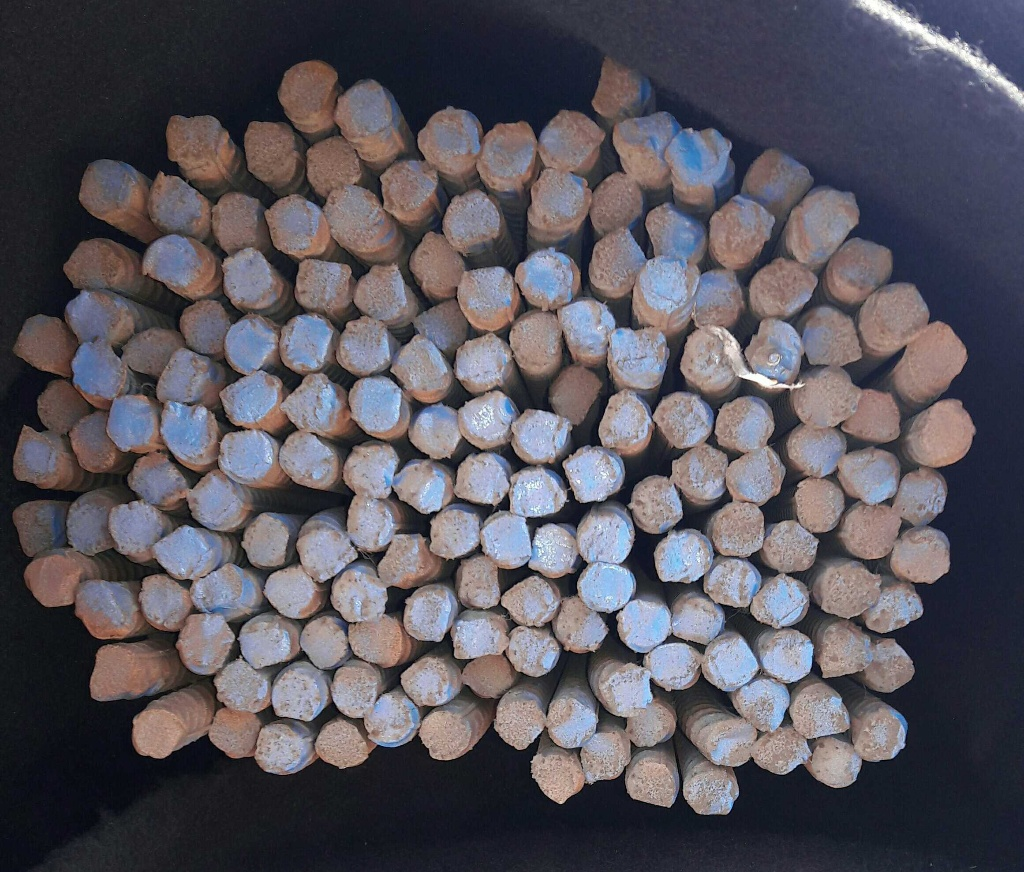dipstick: (709, 195, 774, 265), (792, 187, 859, 254), (910, 399, 979, 464), (475, 121, 538, 190), (793, 366, 860, 427), (615, 110, 683, 170), (681, 323, 739, 392), (752, 258, 818, 318), (185, 469, 249, 530), (540, 110, 604, 170), (161, 400, 221, 463), (458, 269, 519, 330), (266, 196, 329, 255), (745, 318, 802, 383), (748, 149, 813, 206), (222, 248, 281, 309), (868, 283, 929, 342), (839, 448, 901, 506), (516, 249, 580, 305), (804, 306, 863, 366), (191, 564, 254, 620), (908, 321, 967, 380), (176, 615, 234, 675), (282, 374, 343, 431), (667, 128, 730, 183), (75, 580, 133, 639), (558, 299, 616, 358), (306, 136, 362, 197), (419, 108, 482, 162), (443, 190, 500, 249), (279, 61, 339, 117), (640, 255, 700, 311), (891, 526, 951, 582), (786, 422, 846, 478), (597, 391, 652, 452), (239, 615, 301, 669), (611, 326, 667, 385), (648, 203, 708, 258), (530, 170, 591, 224), (458, 391, 515, 448), (336, 80, 393, 137), (79, 158, 134, 217), (148, 172, 202, 232), (750, 573, 810, 627), (725, 446, 785, 500), (841, 504, 901, 558), (655, 392, 712, 448), (835, 238, 892, 294), (547, 367, 602, 425), (296, 528, 356, 581), (511, 408, 571, 461), (591, 227, 644, 287), (704, 634, 758, 692), (281, 313, 334, 372), (220, 371, 279, 424), (590, 173, 643, 232), (821, 565, 880, 618), (895, 468, 948, 527), (864, 581, 924, 633), (272, 666, 328, 721), (392, 335, 448, 390), (455, 334, 511, 389), (73, 342, 127, 399), (225, 317, 279, 374), (264, 566, 322, 619), (792, 684, 850, 737), (842, 388, 900, 441), (142, 234, 202, 285), (693, 268, 744, 328), (819, 621, 873, 677), (331, 569, 388, 622), (655, 529, 712, 582), (67, 493, 116, 554), (13, 501, 67, 556), (156, 350, 212, 403), (154, 525, 210, 578), (593, 65, 650, 117), (23, 555, 81, 606), (338, 316, 389, 374), (564, 450, 622, 501), (716, 396, 774, 447), (63, 240, 122, 290), (394, 464, 453, 514), (127, 454, 187, 503), (219, 430, 273, 484), (296, 258, 350, 312), (554, 597, 608, 651), (365, 694, 420, 747), (712, 501, 765, 556), (37, 378, 89, 434), (215, 660, 271, 712), (349, 375, 401, 431), (244, 121, 295, 178), (71, 412, 119, 472), (502, 575, 557, 627), (619, 599, 671, 654), (88, 645, 139, 701), (631, 475, 682, 531), (672, 445, 728, 496), (140, 575, 192, 629), (735, 679, 790, 730), (704, 559, 761, 608), (345, 445, 397, 498), (764, 520, 818, 571), (579, 563, 635, 612), (481, 512, 530, 568), (752, 728, 811, 774), (110, 501, 162, 553), (578, 513, 630, 565), (279, 431, 332, 482), (355, 265, 406, 318), (855, 710, 908, 761), (670, 595, 724, 645), (14, 426, 62, 482), (508, 468, 564, 516), (414, 301, 470, 349), (415, 232, 463, 288), (347, 494, 394, 551), (122, 328, 181, 373), (507, 626, 559, 677), (811, 737, 863, 788), (181, 301, 231, 354), (348, 614, 401, 664), (13, 316, 67, 365), (107, 396, 156, 450), (795, 478, 844, 532), (532, 754, 583, 805), (419, 711, 472, 760), (399, 657, 452, 706), (603, 662, 652, 715), (646, 643, 701, 690), (379, 534, 429, 585), (411, 405, 460, 457), (132, 710, 185, 758), (764, 628, 812, 681), (65, 290, 119, 337), (530, 523, 576, 578), (382, 161, 437, 207), (682, 770, 738, 815), (457, 453, 507, 503), (299, 617, 348, 668), (867, 640, 915, 692), (212, 193, 259, 246), (404, 588, 450, 642), (495, 700, 545, 749), (548, 698, 597, 748), (581, 732, 630, 782), (627, 758, 676, 808), (625, 699, 675, 748), (166, 116, 219, 162), (209, 709, 259, 757), (430, 510, 481, 557), (510, 310, 561, 357), (332, 666, 378, 718), (243, 513, 288, 566), (316, 722, 367, 768), (707, 719, 755, 766), (257, 725, 302, 775), (456, 558, 500, 608), (453, 618, 507, 657), (463, 655, 513, 696)
